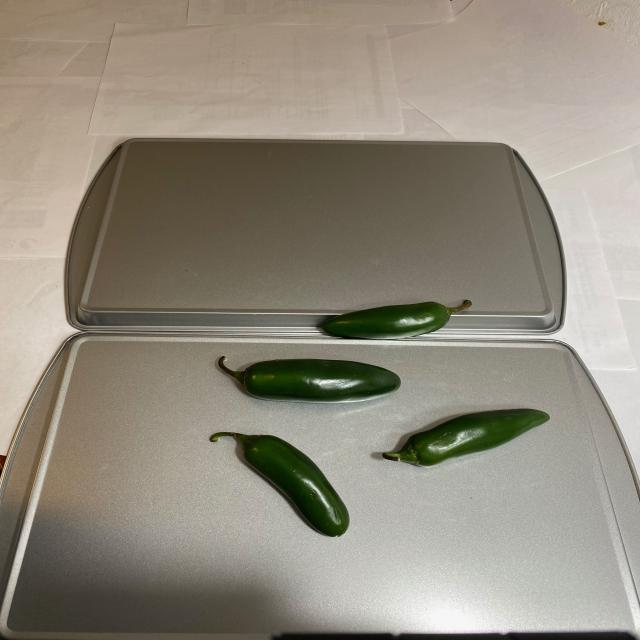chilli: (196, 297, 550, 539)
